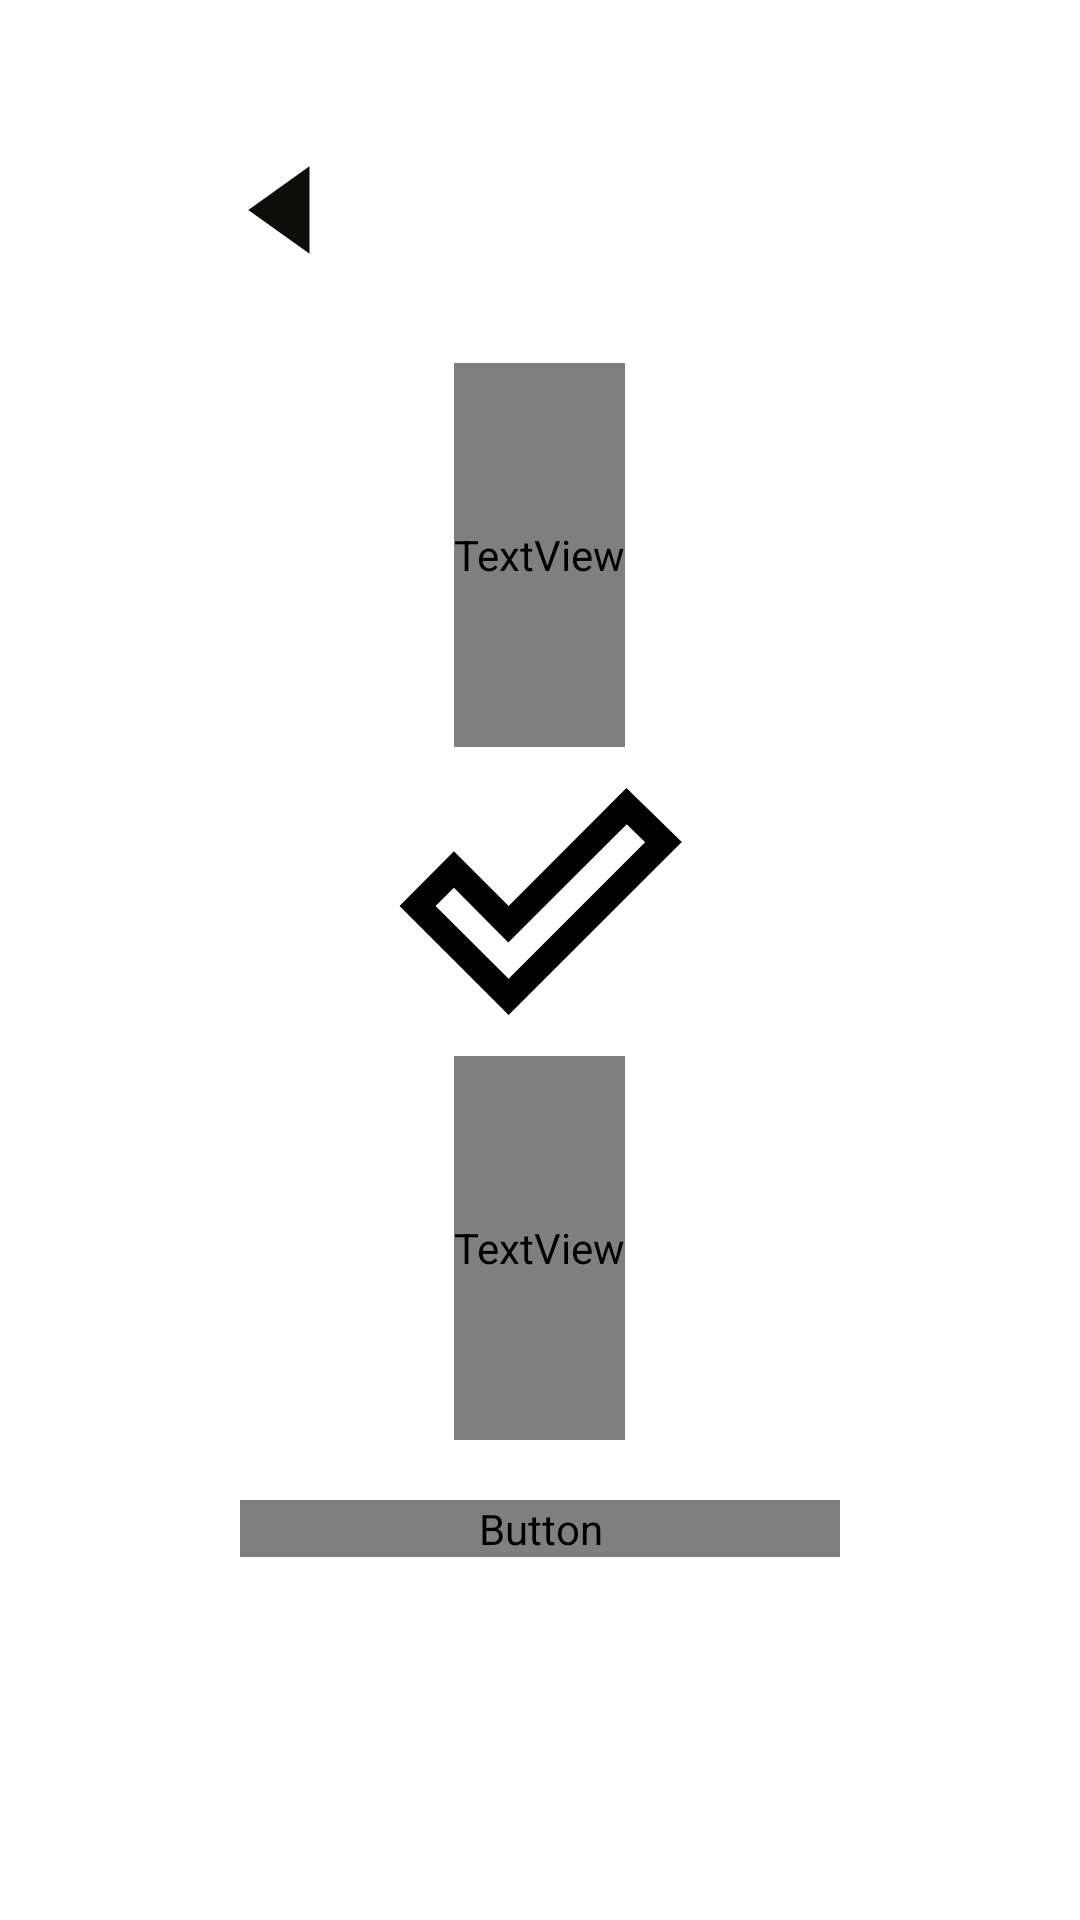

Where icons sit on this 1080w x 1920h app screen, as (x1, y1, x2, y2):
arrow left: (248, 166, 310, 254)
